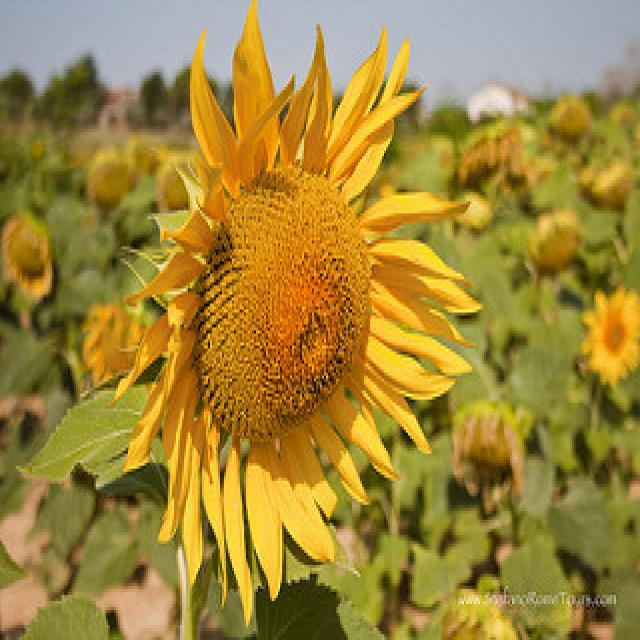sunflower: (125, 26, 450, 581)
